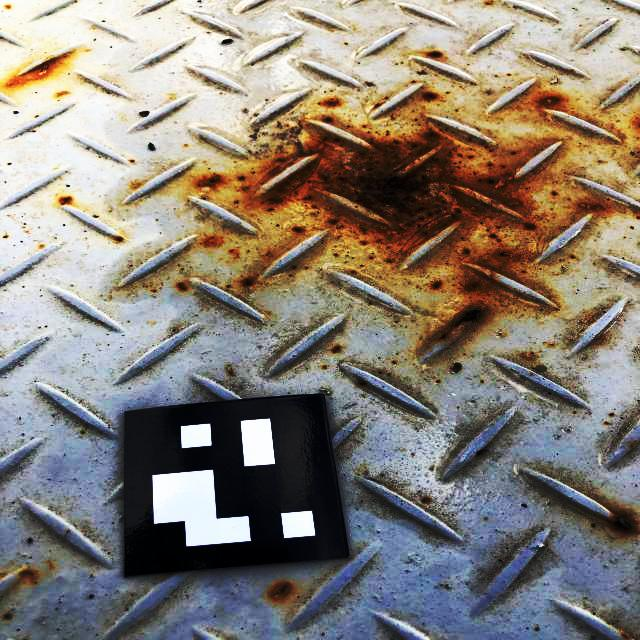Corrosion: (255, 122, 545, 271), (457, 230, 526, 271), (2, 55, 69, 88), (438, 305, 485, 344), (606, 508, 639, 535), (462, 273, 495, 298), (574, 197, 611, 214), (533, 92, 567, 108), (269, 582, 292, 602), (197, 174, 224, 188), (420, 91, 439, 105), (324, 98, 340, 109), (241, 277, 256, 287), (176, 282, 187, 291), (432, 281, 442, 289)
